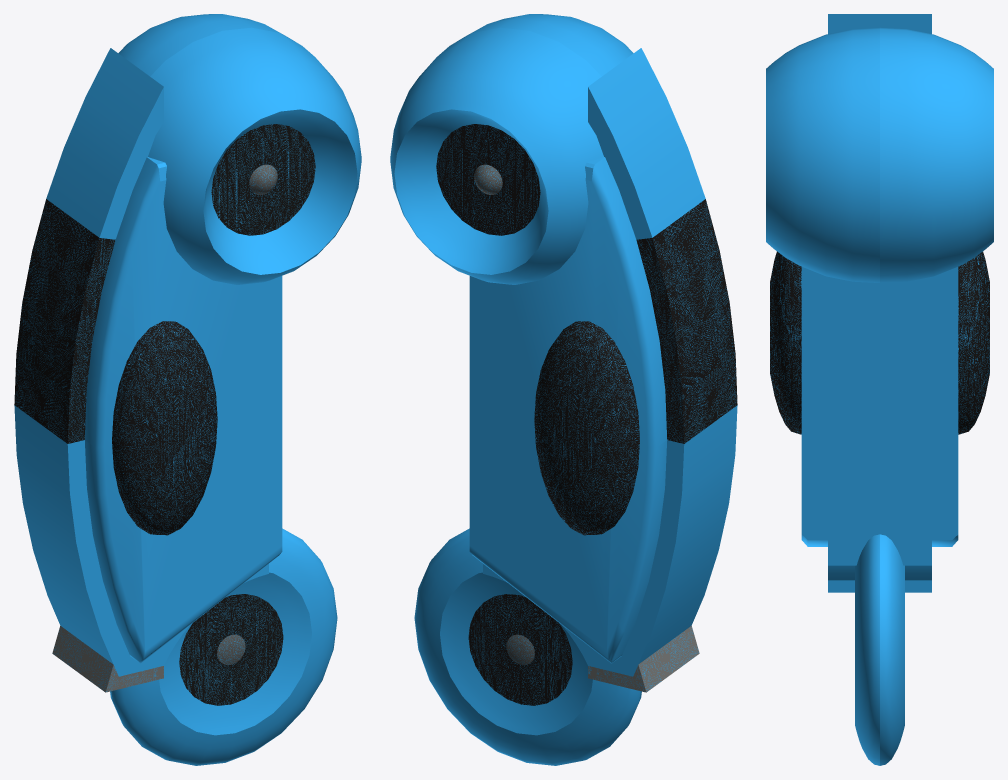
The model's file is Light_Cycle_B.dae.
3 views of the same model, side by side, from view 1: azimuth 30°, elevation 25°; view 2: azimuth 150°, elevation 25°; view 3: azimuth 270°, elevation 25° (orthographic). The views are drawn at different scales.
Visible parts, largest first — view 1: group_0 (×6), Component_1 (×4), Component_4 (×3), group_1; view 2: group_0 (×6), Component_1 (×4), Component_4 (×3), group_1; view 3: Component_1 (×2), group_0 (×2), Component_4 (×2), group_1 (×2).
Boxes of the visible parts, x1,y1,x2,y2 form: group_0 (×6): (14,48,282,692); Component_1 (×4): (118,14,361,284); Component_4 (×3): (111,528,337,765); group_1: (112,321,217,535); group_0 (×6): (469,48,737,692); Component_1 (×4): (390,14,633,284); Component_4 (×3): (414,528,640,765); group_1: (534,321,639,535); Component_1 (×2): (766,27,993,282); group_0 (×2): (801,14,958,592); Component_4 (×2): (855,534,904,765); group_1 (×2): (770,251,989,434).
Bounding box in the file's own units: 47.87 × 32.75 × 114.
